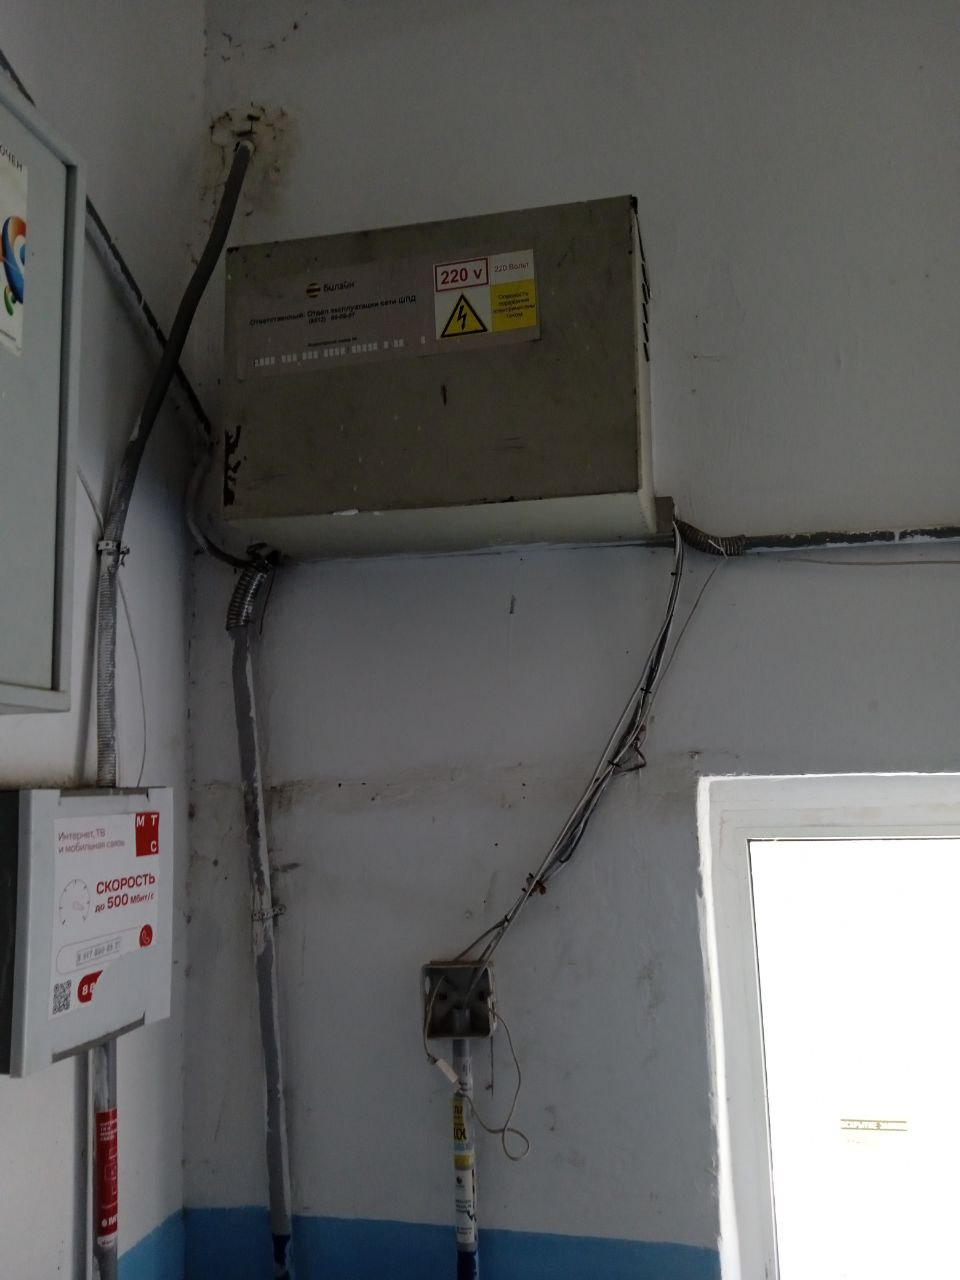sv-5: (219, 190, 662, 563)
